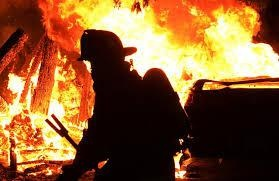fire: (113, 0, 278, 106), (0, 9, 95, 173), (173, 134, 193, 179)
